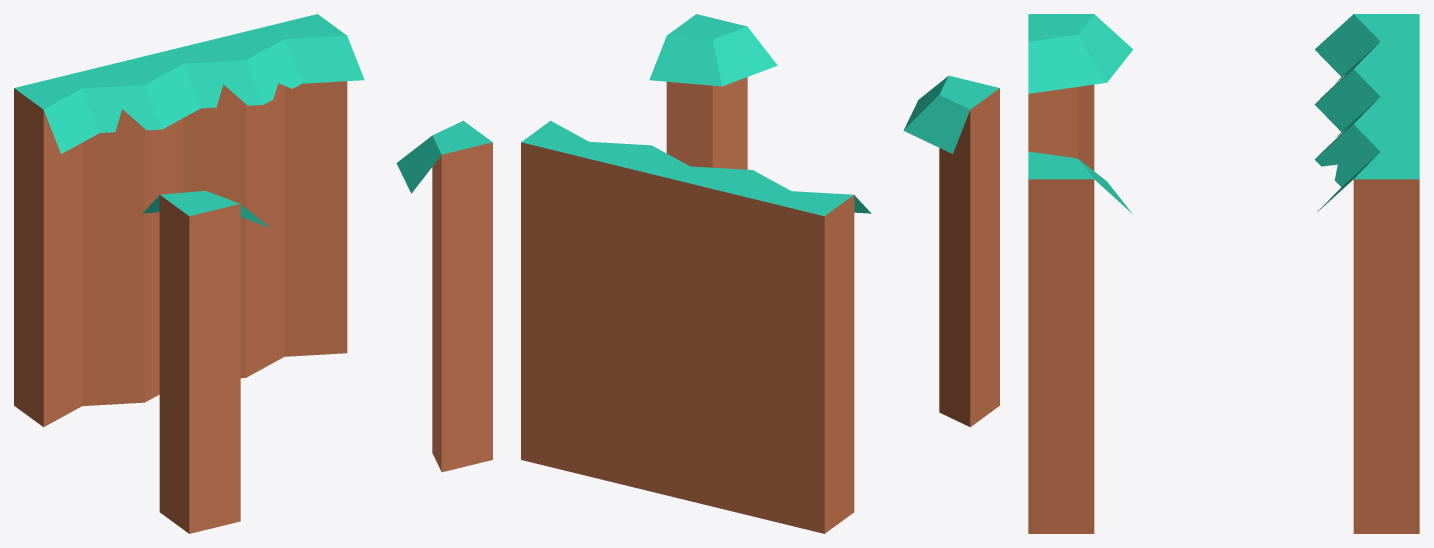
The model's file is hill_side_2corner.obj.
3 renders of one model, left to right at view 1: azimuth 30°, elevation 25°; view 2: azimuth 150°, elevation 25°; view 3: azimuth 270°, elevation 25°, orthographic. The views are drawn at different scales.
Parts seen in each view (by area): view 1: cliff_top_rock, cliff_cornerTop_rock, cliff_cornerTop_rock.001; view 2: cliff_top_rock, cliff_cornerTop_rock, cliff_cornerTop_rock.001; view 3: cliff_top_rock, cliff_cornerTop_rock.001, cliff_cornerTop_rock.
Part boxes in pixels (x1,y1,x2,y2): cliff_top_rock: [14, 14, 364, 427]; cliff_cornerTop_rock: [142, 190, 269, 533]; cliff_cornerTop_rock.001: [396, 120, 492, 472]; cliff_top_rock: [521, 120, 871, 533]; cliff_cornerTop_rock: [903, 75, 999, 427]; cliff_cornerTop_rock.001: [649, 14, 777, 169]; cliff_top_rock: [1314, 14, 1419, 533]; cliff_cornerTop_rock.001: [1028, 151, 1132, 533]; cliff_cornerTop_rock: [1028, 14, 1132, 170].
Size of the model in its own units: 1 by 1 by 1.
